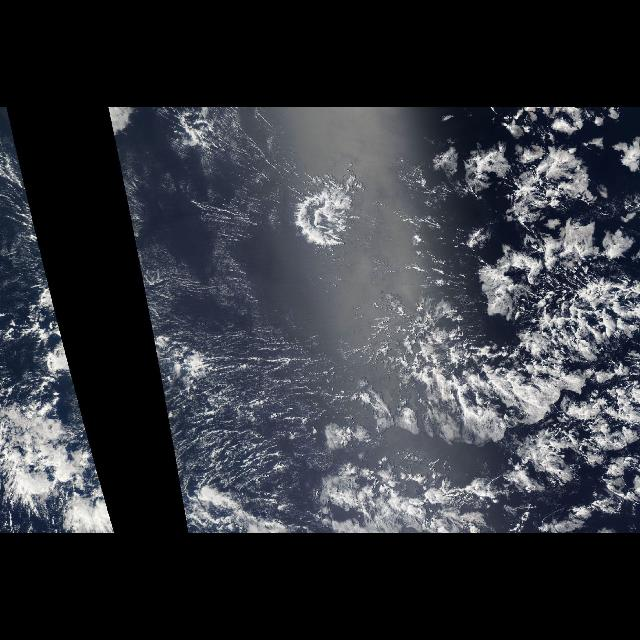Gravel: (157, 295, 349, 527)
